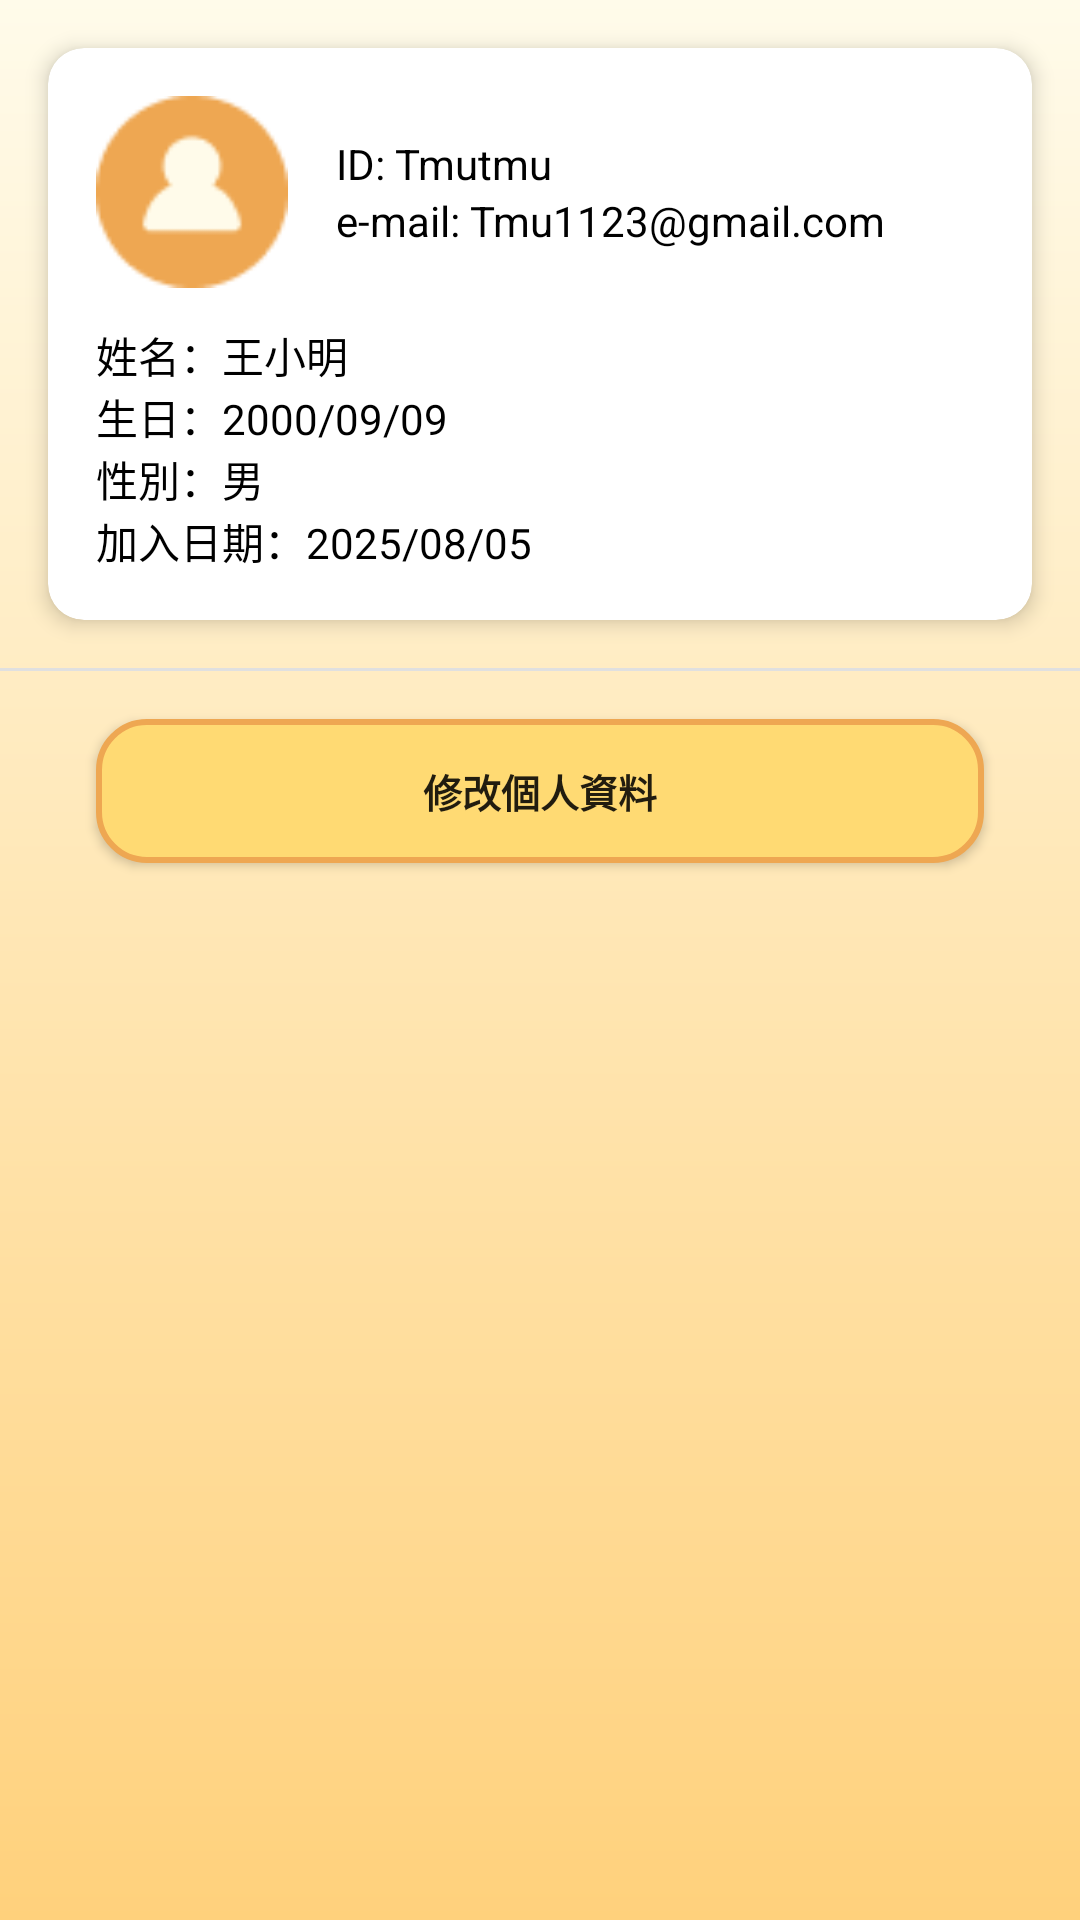

Icons on this 1080×1920 Android screen, each with the point to tap as [x,y]:
person: [192,192]
